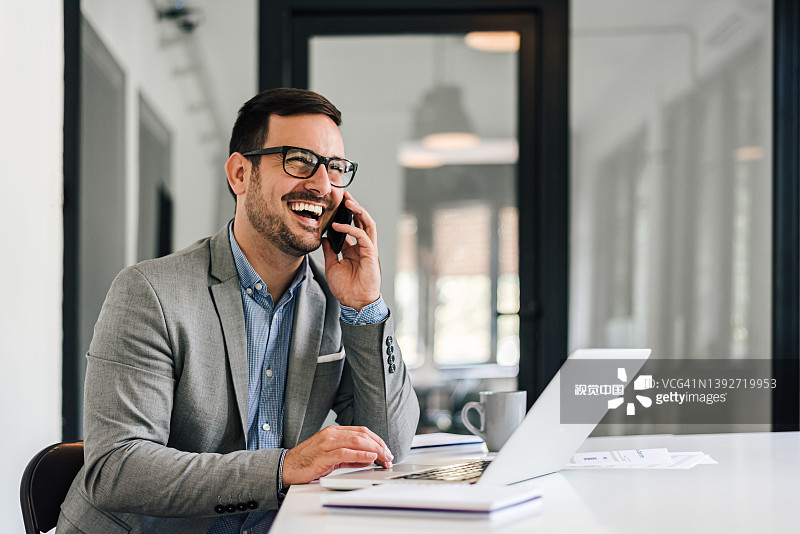calling: (314, 188, 411, 323)
no-phone: (257, 412, 410, 498)
